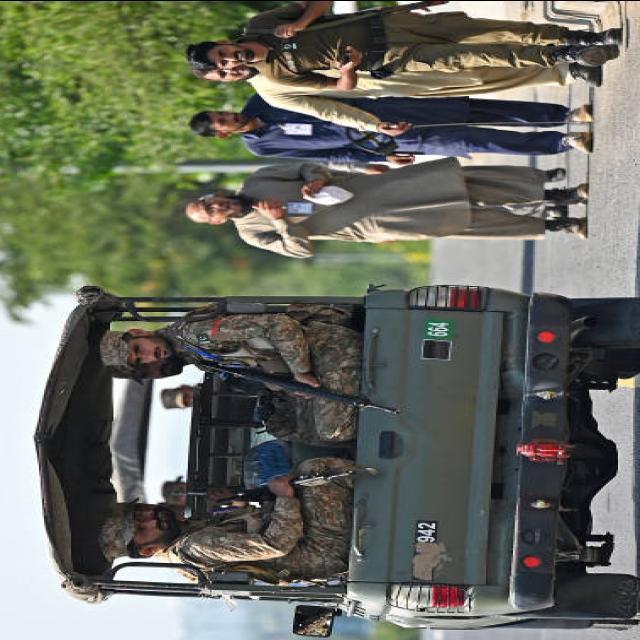LMV: (34, 279, 640, 637)
civilian: (185, 157, 588, 257), (191, 62, 600, 136), (190, 94, 594, 165)
soldier: (102, 304, 402, 441), (98, 456, 355, 585), (101, 485, 270, 531), (107, 359, 184, 384)
